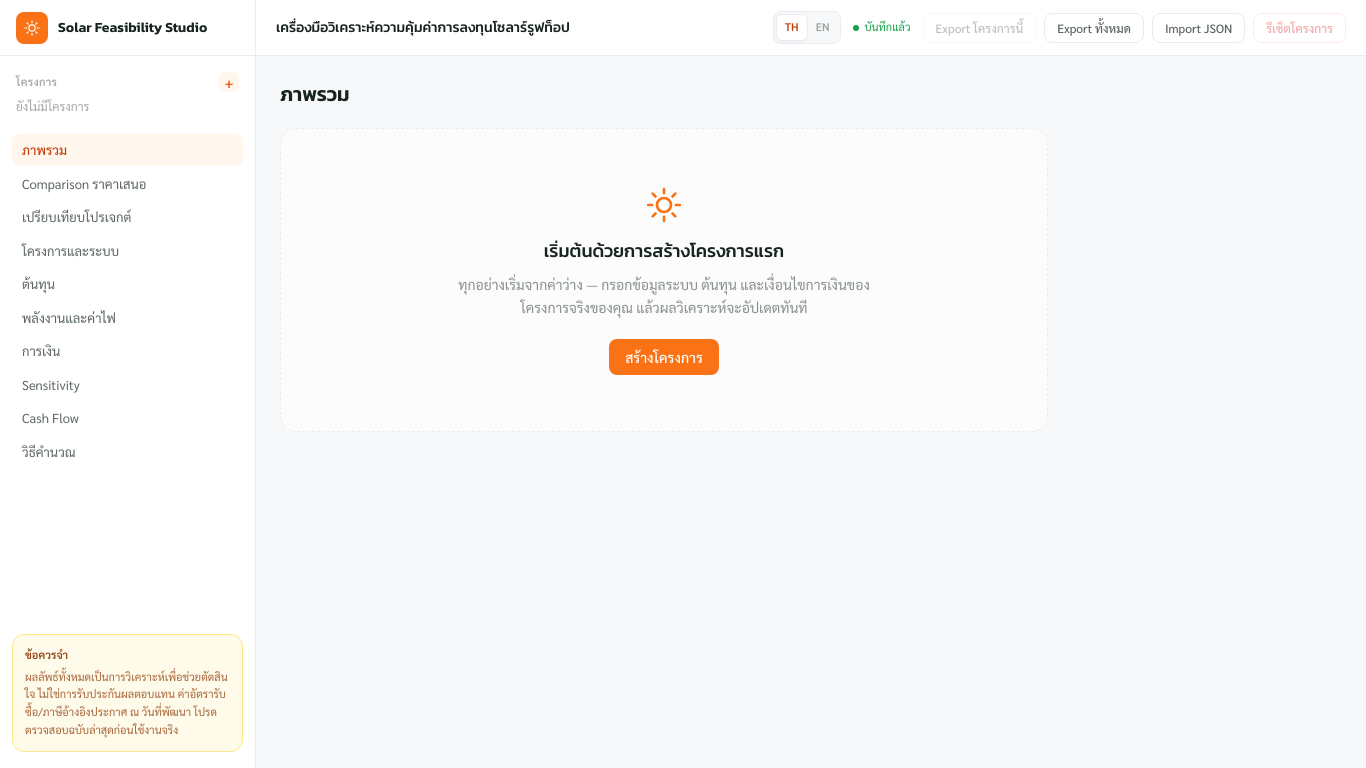
Test: cashflow page (Phase 5) › shows an empty prompt when the project has no data
Step 1. Click the button "สร้างโครงการ" → (664, 356), box left=609, top=338, right=719, bottom=374
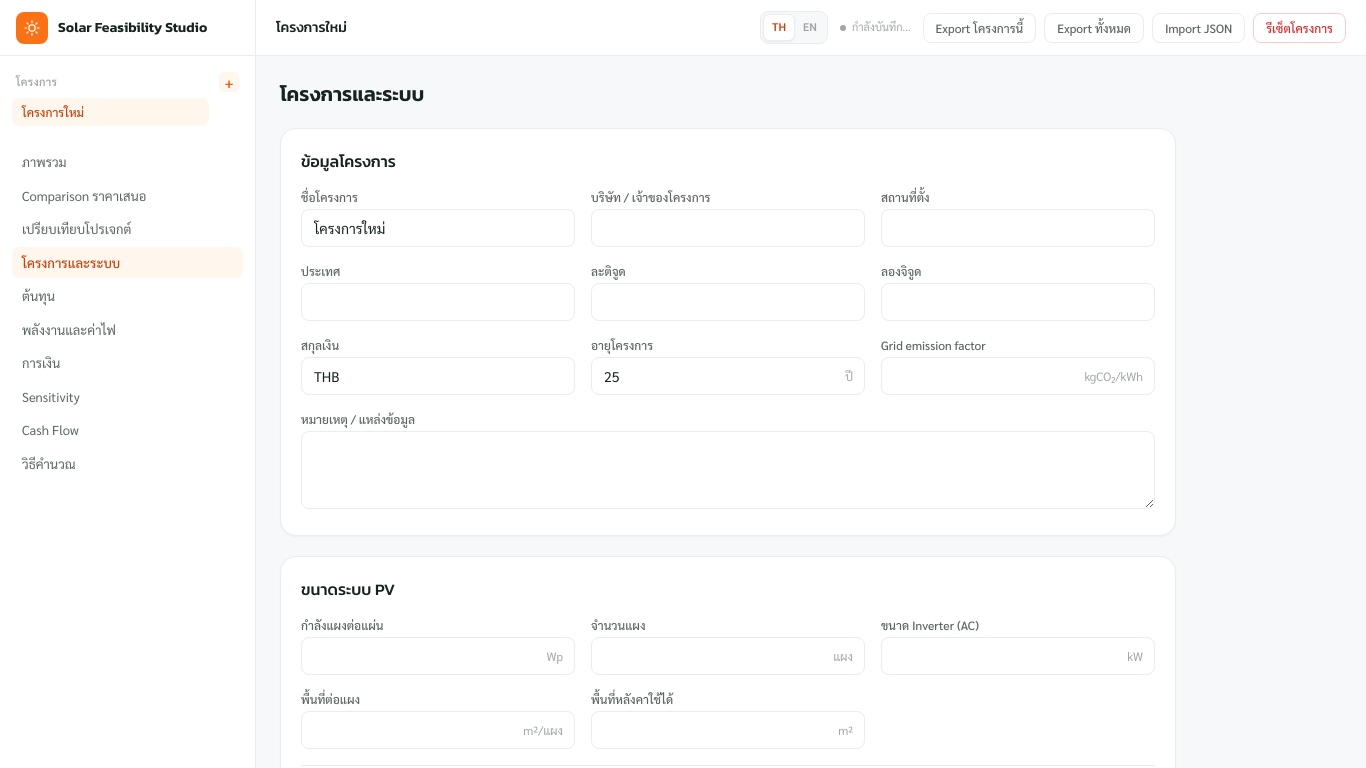
Step 2. Click the link "Cash Flow" → (50, 430), box left=22, top=421, right=79, bottom=438
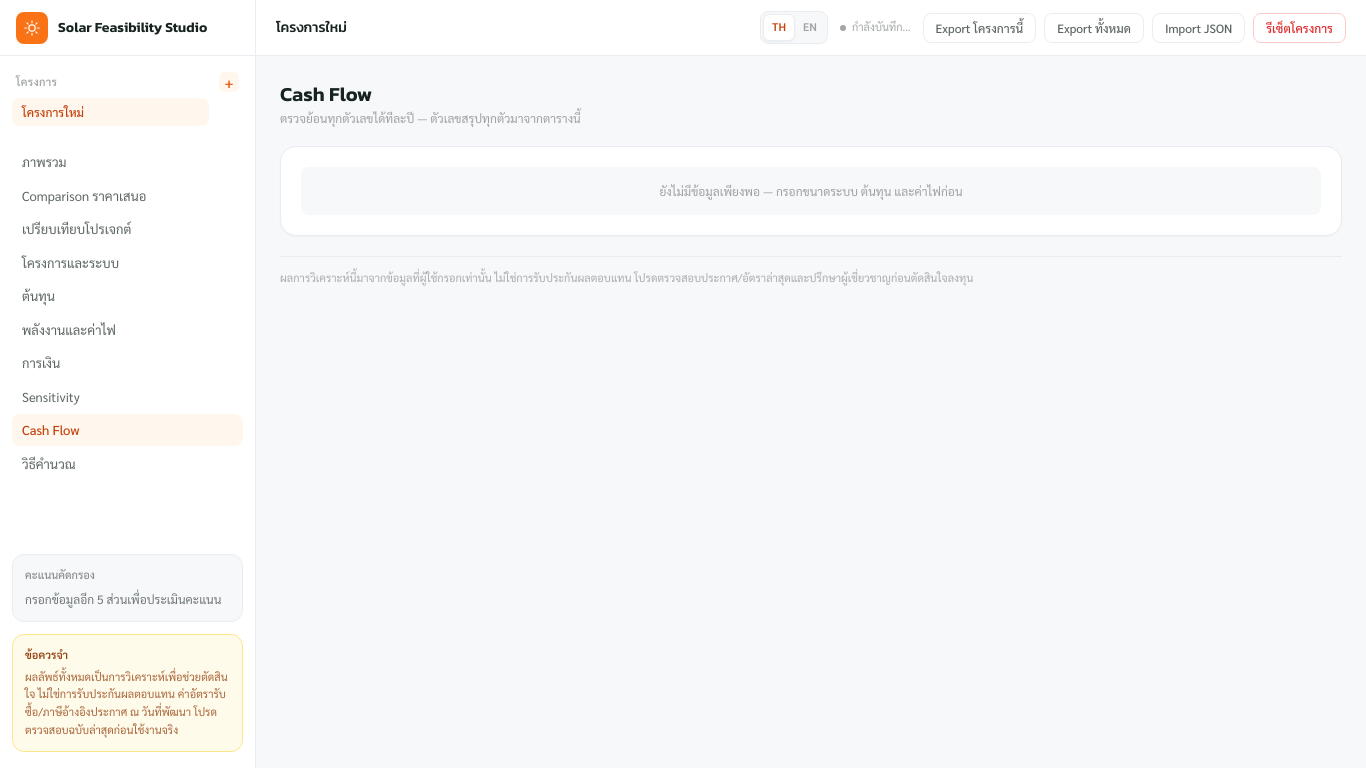
Expected: the text "ยังไม่มีข้อมูลเพียงพอ — กรอกขนาดระบบ ต้นทุน และค่าไฟก่อน" is shown, left=301, top=167, right=1321, bottom=215
